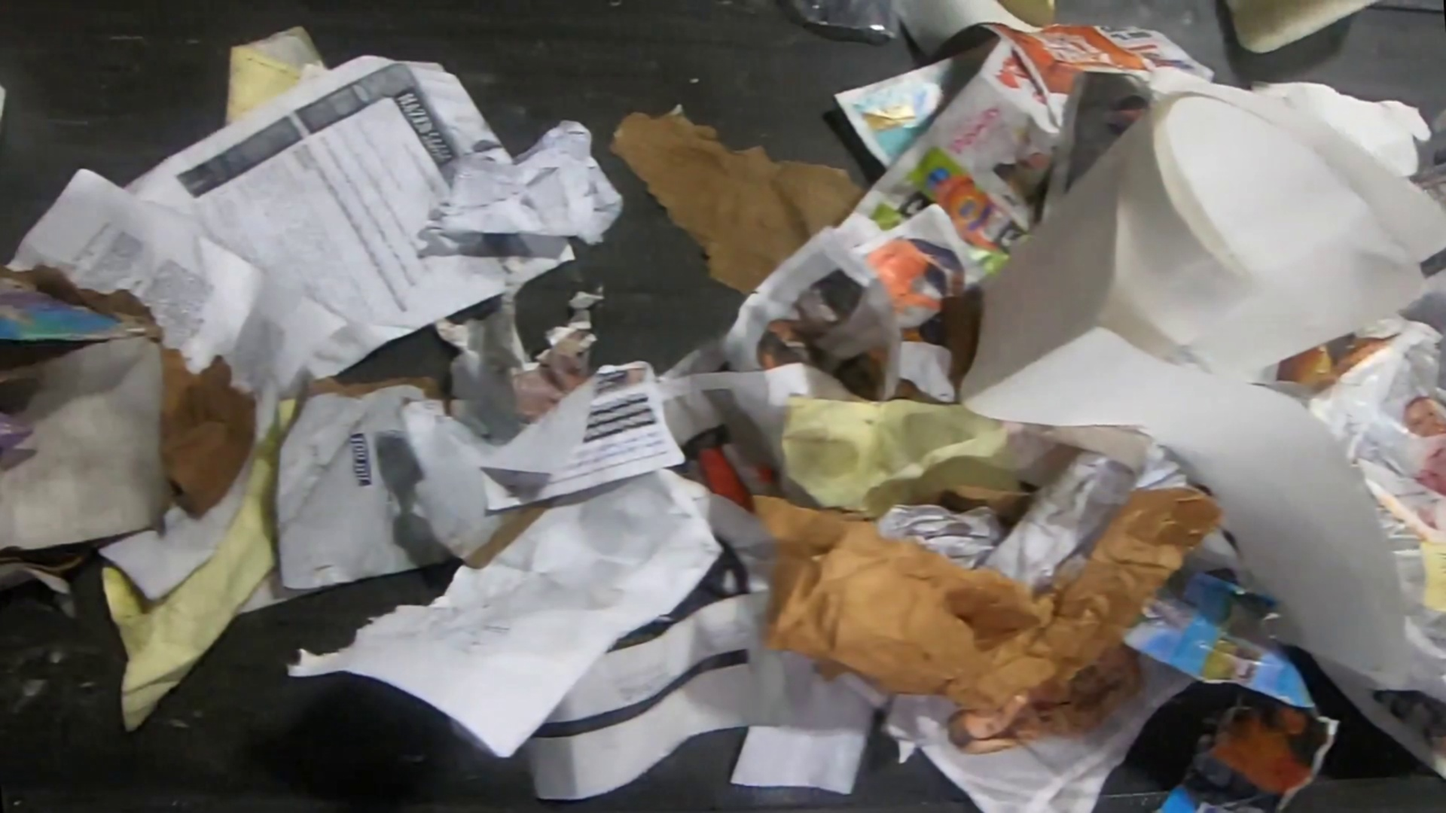cardboard: (0, 261, 260, 518), (270, 375, 560, 593), (0, 339, 167, 552)
plastic: (783, 0, 901, 38)
